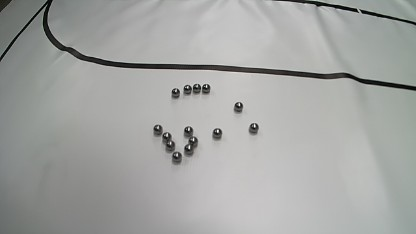ironball: (183, 143, 194, 155), (171, 151, 182, 162), (248, 122, 259, 133), (153, 124, 163, 135), (183, 125, 193, 136), (165, 140, 175, 151), (212, 128, 222, 138), (188, 136, 198, 146), (162, 131, 171, 142), (234, 102, 243, 112), (192, 83, 201, 93), (201, 83, 210, 93), (183, 84, 192, 94), (171, 88, 180, 97)
